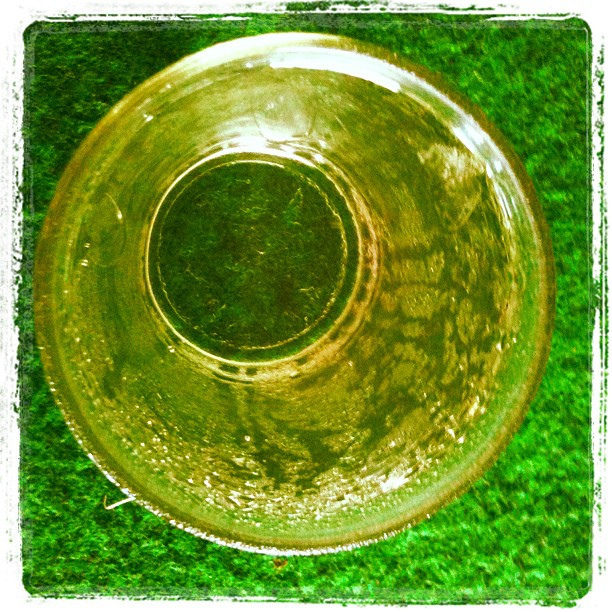glass of water: (47, 50, 546, 569)
